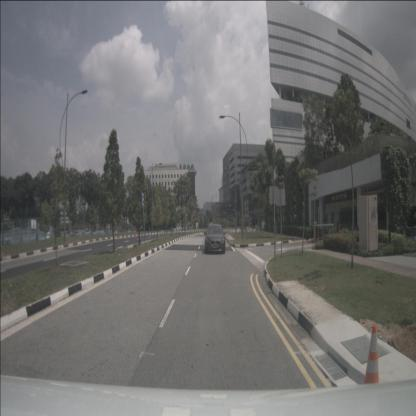movable_object-trafficcone: (361, 324, 384, 404)
vehicle-car: (204, 224, 226, 254), (255, 223, 261, 230)
